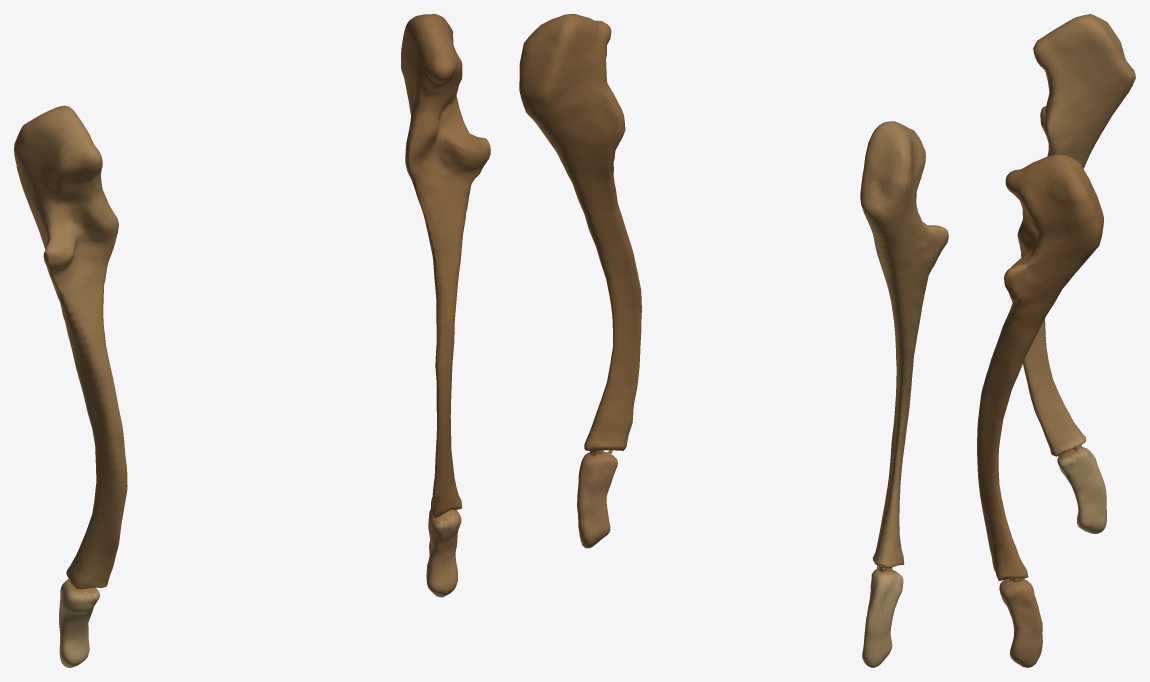
File: Ulna.glb
The picture shows the model from 3 angles, left to right: view 1: azimuth 30°, elevation 25°; view 2: azimuth 150°, elevation 25°; view 3: azimuth 270°, elevation 25°; orthographic projection. The views are drawn at different scales.
Parts seen in each view (by area): view 1: Ulna; view 2: Ulna; view 3: Ulna.
Part boxes in pixels (x1,y1,x2,y2): Ulna: (14, 14, 490, 667); Ulna: (519, 14, 948, 667); Ulna: (977, 14, 1135, 667).
Bounding box in the file's own units: 185 × 242 × 65.92.
1 material, 1 textured.
